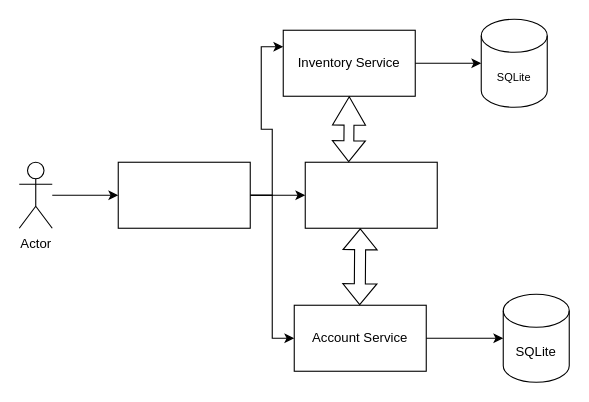
Image size: 589x402. Some labels were removed from this diagram. Here are the shapes that lost their labels. From the top down, the box of each, then its label:
(117, 161, 250, 228): API Gateway
(304, 161, 437, 228): Cart Service
